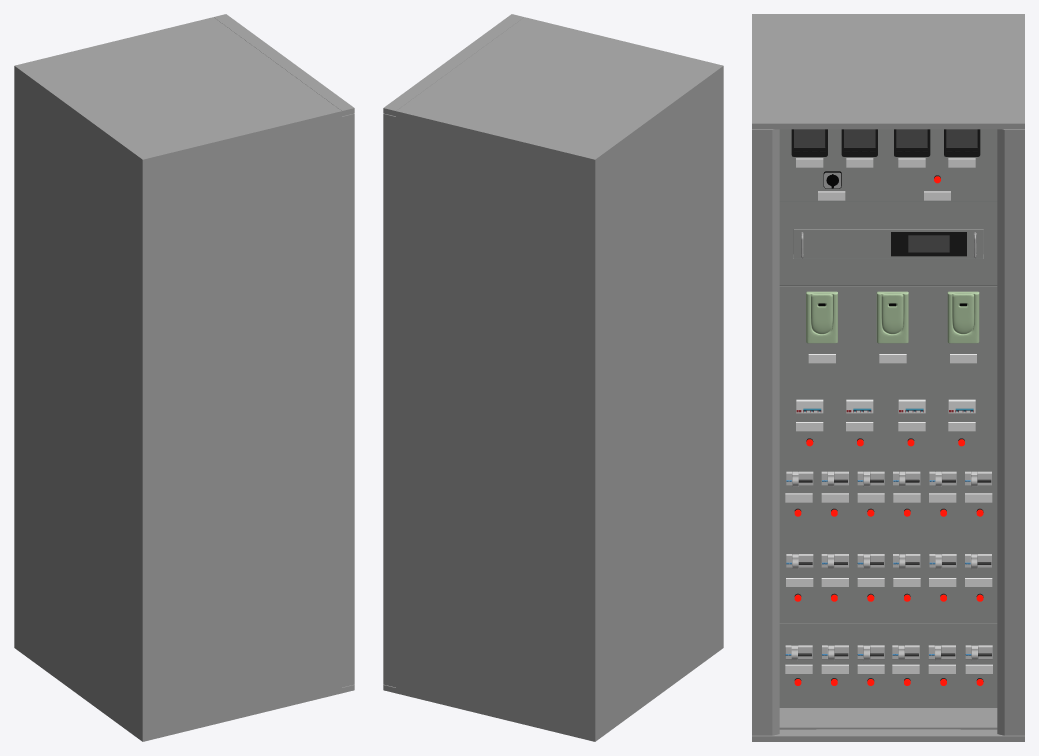
File: 2号直流变电柜.glb
3 views of the same model, side by side, from view 1: azimuth 30°, elevation 25°; view 2: azimuth 150°, elevation 25°; view 3: azimuth 270°, elevation 25° (orthographic). The views are drawn at different scales.
Parts seen in each view (by area): view 1: 2号直流电源柜_外壳; view 2: 2号直流电源柜_外壳; view 3: 2号直流电源柜, 2号直流电源柜_外壳, 逆变电源, 充电模块3, 充电模块2, 充电模块1, 2控母电压, 2控母电流, 2电池电压, 2电池电流.
Part boxes in pixels (bbox=[...]): 2号直流电源柜_外壳: bbox=[14, 14, 354, 741]; 2号直流电源柜_外壳: bbox=[383, 14, 723, 741]; 2号直流电源柜: bbox=[779, 129, 997, 707]; 2号直流电源柜_外壳: bbox=[752, 14, 1024, 741]; 逆变电源: bbox=[793, 229, 983, 258]; 充电模块3: bbox=[947, 291, 979, 343]; 充电模块2: bbox=[876, 291, 908, 343]; 充电模块1: bbox=[806, 291, 837, 343]; 2控母电压: bbox=[894, 129, 930, 156]; 2控母电流: bbox=[944, 129, 980, 156]; 2电池电压: bbox=[791, 129, 827, 156]; 2电池电流: bbox=[841, 129, 877, 156].
Bounding box in the file's own units: 0.9369 × 2.46 × 0.984.
